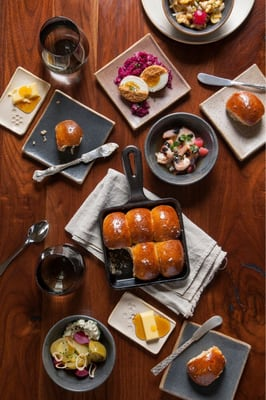pizza: (39, 16, 90, 85)
salad: (150, 315, 223, 377), (1, 219, 50, 277), (197, 72, 266, 92)
sandwich: (150, 314, 223, 376), (31, 142, 119, 181)
sushi: (40, 315, 116, 394), (145, 113, 219, 187), (161, 0, 236, 37)
